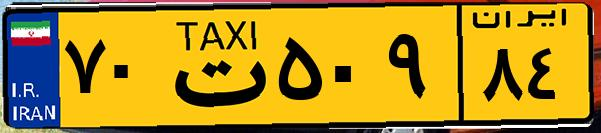0: (330, 28, 385, 110), (110, 28, 158, 98)
4: (525, 38, 570, 115)
5: (270, 28, 330, 110)
7: (57, 26, 110, 100)
8: (475, 38, 525, 113)
9: (385, 28, 445, 110)
ت: (158, 12, 270, 120)
